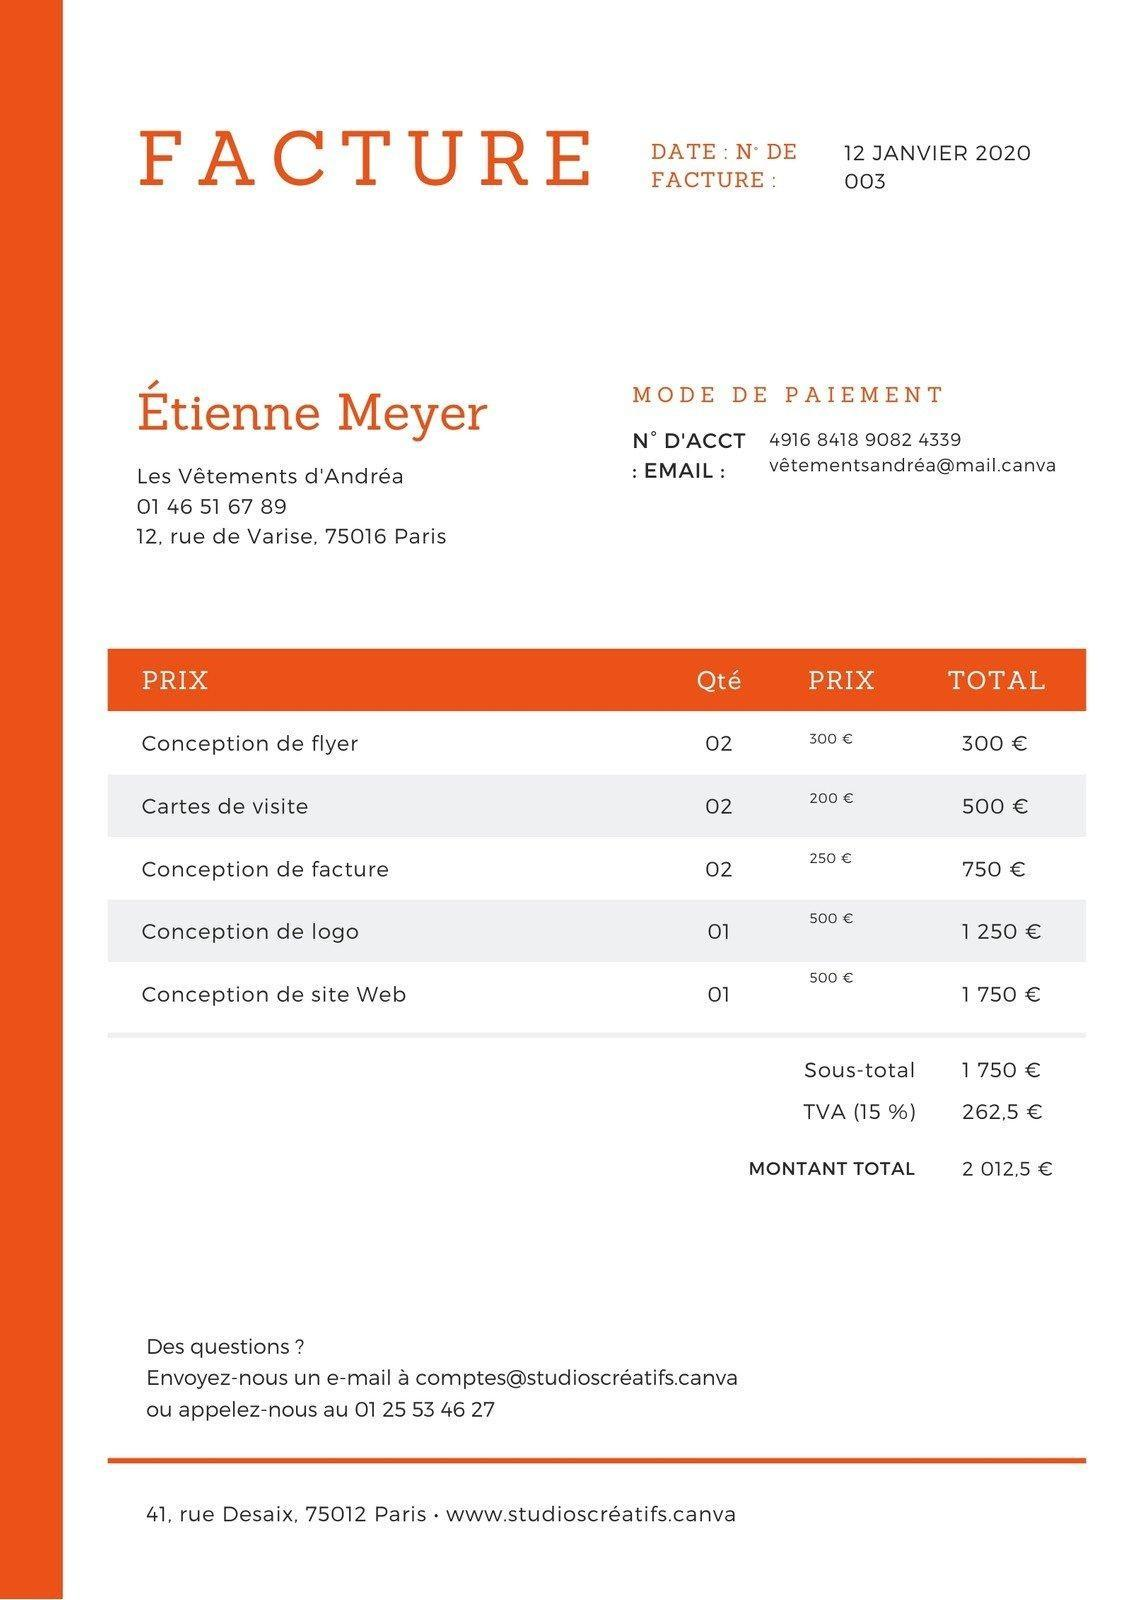ROI: (133, 664, 1062, 1015), (124, 377, 493, 547), (625, 376, 1071, 491), (737, 1047, 1067, 1185), (645, 136, 1044, 198)
